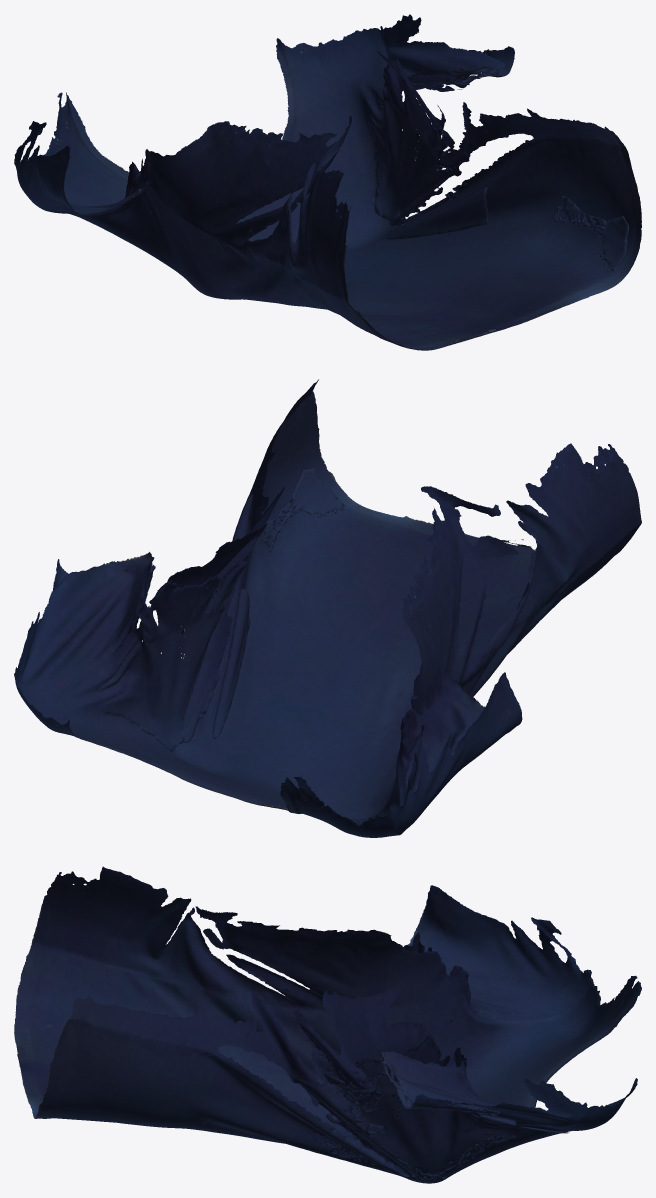
Rendered from playeraM_v1.0.obj.
3 views of the same model, one above another, from view 1: azimuth 30°, elevation 25°; view 2: azimuth 150°, elevation 25°; view 3: azimuth 270°, elevation 25° (orthographic). The views are drawn at different scales.
Visible parts, largest first — view 1: playera_v12_01.001; view 2: playera_v12_01.001; view 3: playera_v12_01.001.
Part boxes in pixels (x1,y1,x2,y2): playera_v12_01.001: [14, 14, 641, 350]; playera_v12_01.001: [14, 379, 641, 837]; playera_v12_01.001: [14, 866, 641, 1183].
Size of the model in its own units: 2.52 by 1.36 by 3.15.
Materials: 1 (1 with a texture image).
